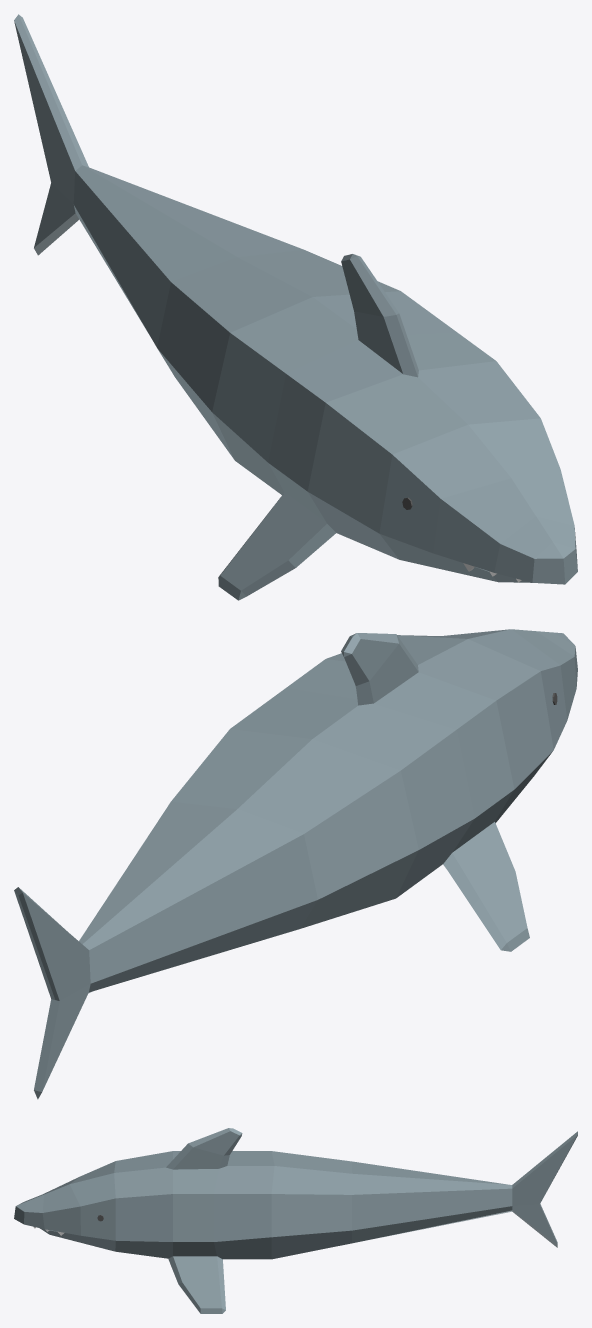
File: Shark.glb
3 views of the same model, one above another, from view 1: azimuth 30°, elevation 25°; view 2: azimuth 150°, elevation 25°; view 3: azimuth 270°, elevation 25° (orthographic). The views are drawn at different scales.
Visible parts, largest first — view 1: Shark_Cube; view 2: Shark_Cube; view 3: Shark_Cube.
Part boxes in pixels (bbox=[...]): Shark_Cube: bbox=[14, 14, 577, 600]; Shark_Cube: bbox=[14, 629, 577, 1099]; Shark_Cube: bbox=[14, 1128, 577, 1313].
Bounding box in the file's own units: 6.78 × 6.44 × 22.02.
